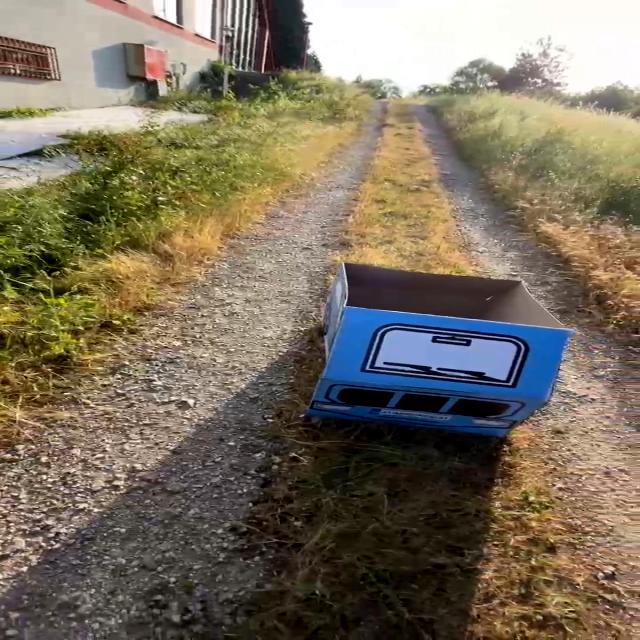blue_car: (285, 245, 585, 483)
